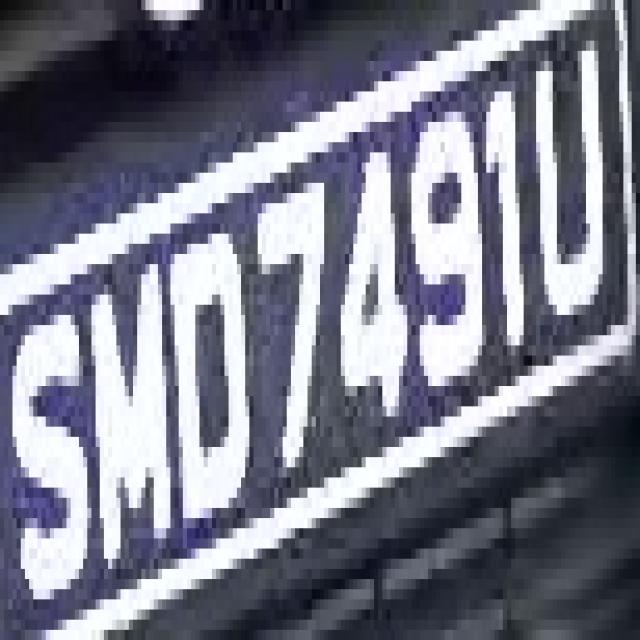1: (474, 51, 532, 386)
4: (324, 132, 416, 457)
7: (245, 162, 337, 498)
9: (391, 91, 486, 386)
D: (166, 204, 254, 538)
M: (83, 213, 171, 559)
S: (4, 274, 92, 630)
U: (520, 31, 615, 356)
